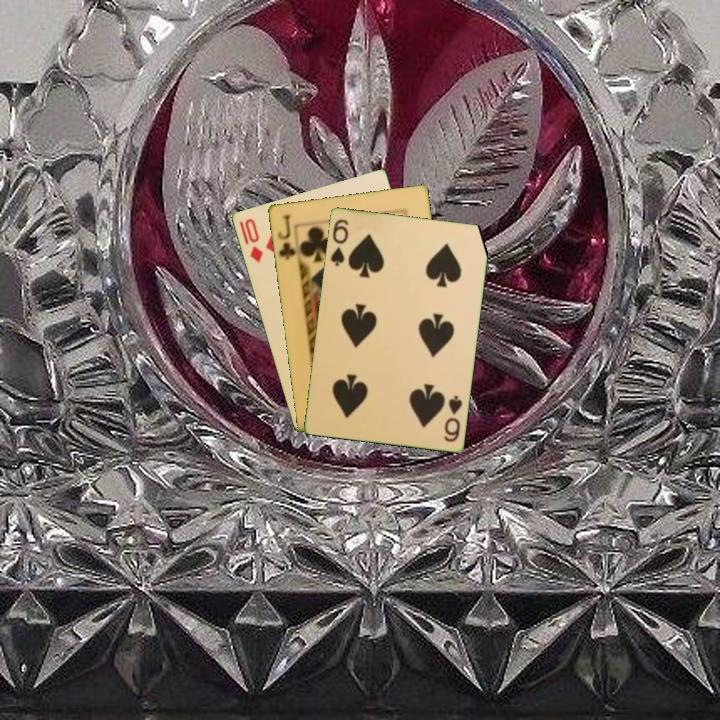10d: (235, 215, 266, 266)
6s: (440, 391, 465, 444), (327, 215, 351, 269)
Jc: (274, 211, 298, 263)
